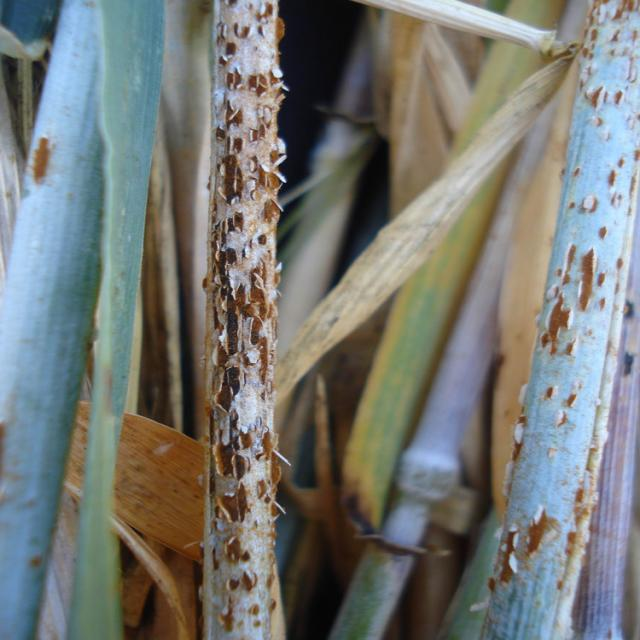wheat-stemrust: (495, 0, 640, 640), (199, 0, 287, 640)
